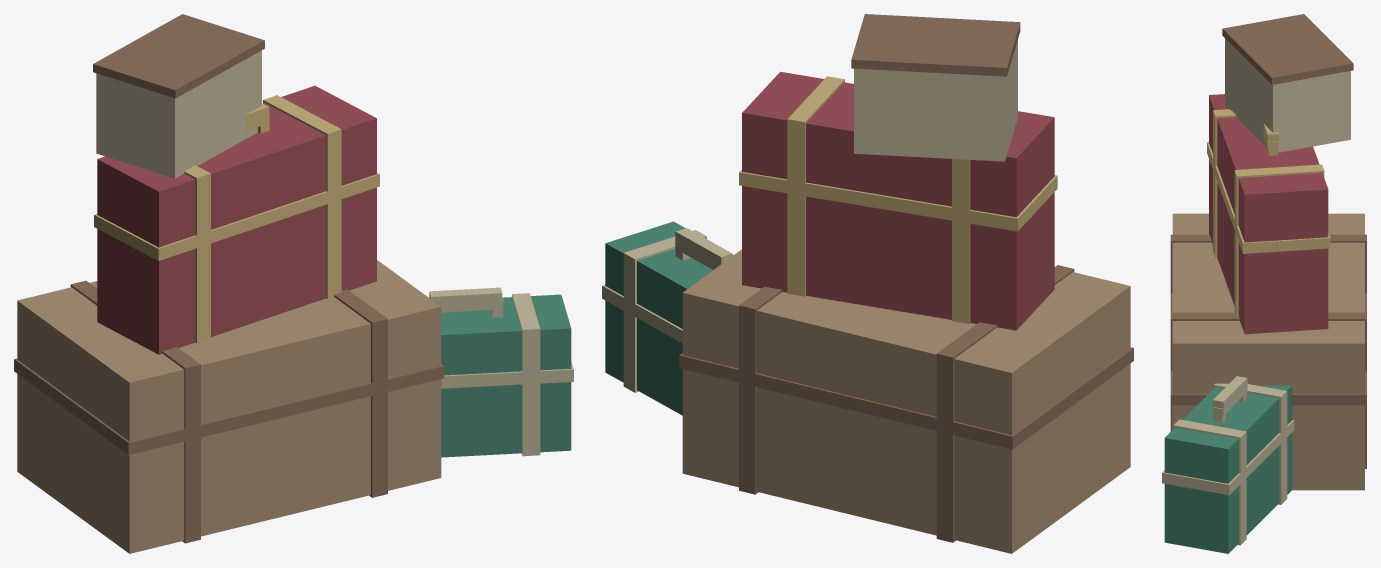
File: rail_luggage_stack.glb
3 renders of one model, left to right at view 1: azimuth 30°, elevation 25°; view 2: azimuth 150°, elevation 25°; view 3: azimuth 270°, elevation 25°, orthographic. The views are drawn at different scales.
Bounding box in the file's own units: 1.2 × 1.04 × 0.5321.
